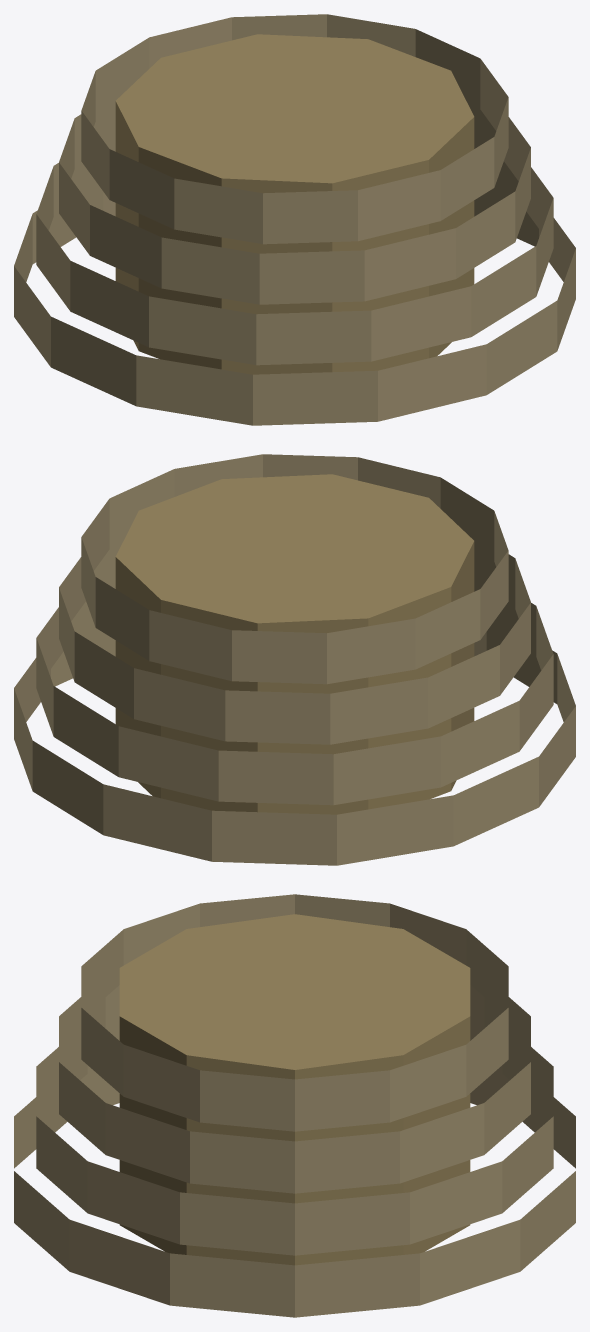
Rendered from rope_coil.glb.
3 views of the same model, one above another, from view 1: azimuth 30°, elevation 25°; view 2: azimuth 150°, elevation 25°; view 3: azimuth 270°, elevation 25° (orthographic). The views are drawn at different scales.
Parts seen in each view (by area): view 1: rope_coil; view 2: rope_coil; view 3: rope_coil.
Boxes of the visible parts, box(x1,y1,x2,y2) form: rope_coil: box(14, 14, 575, 425); rope_coil: box(14, 454, 575, 865); rope_coil: box(14, 894, 575, 1317).
Bounding box in the file's own units: 1 × 0.41 × 0.9749.
